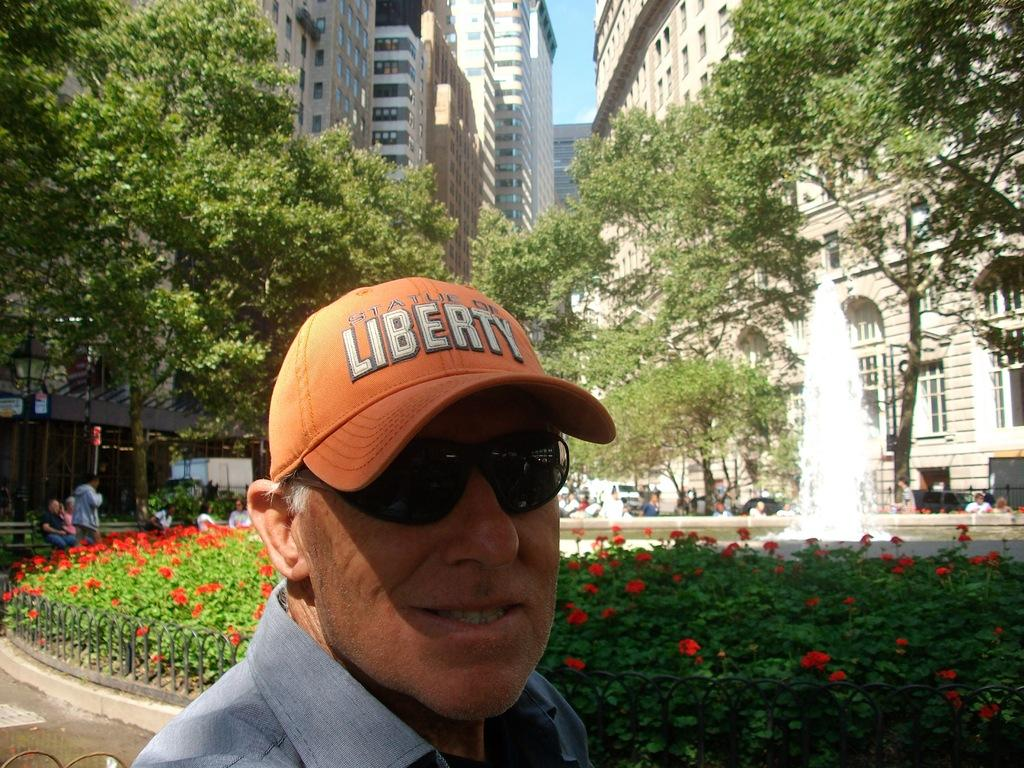Hat: (264, 274, 621, 494)
